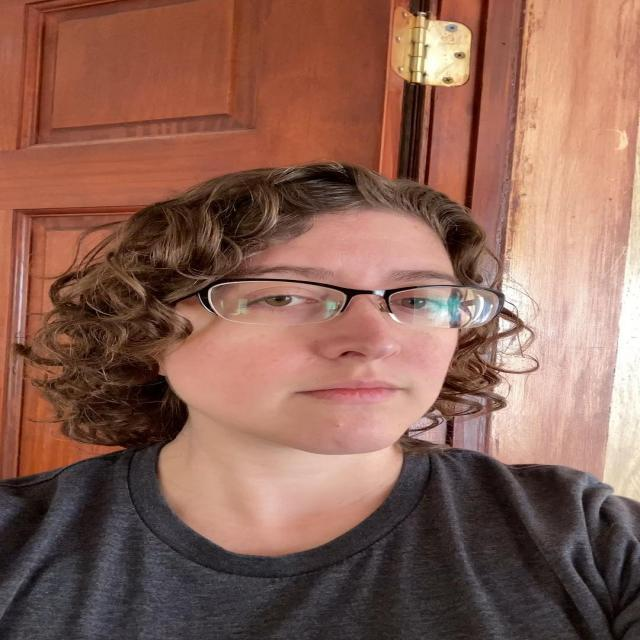no hat: (160, 202, 464, 456)
